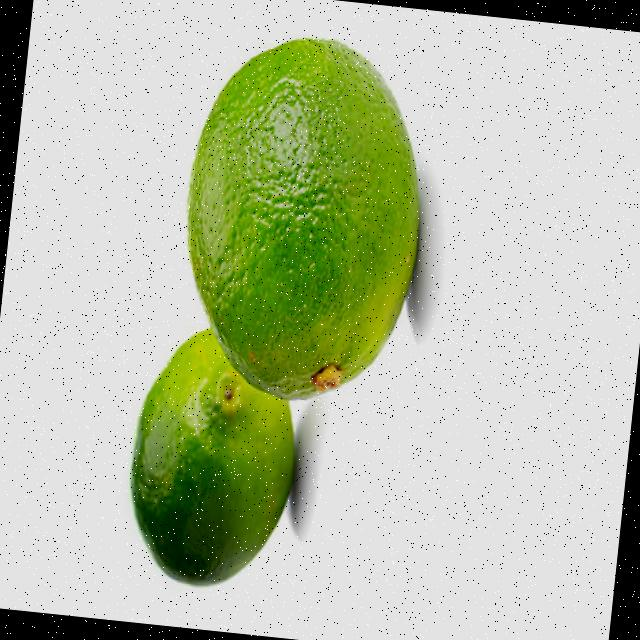Unripe: (164, 24, 438, 415), (116, 322, 307, 597)
